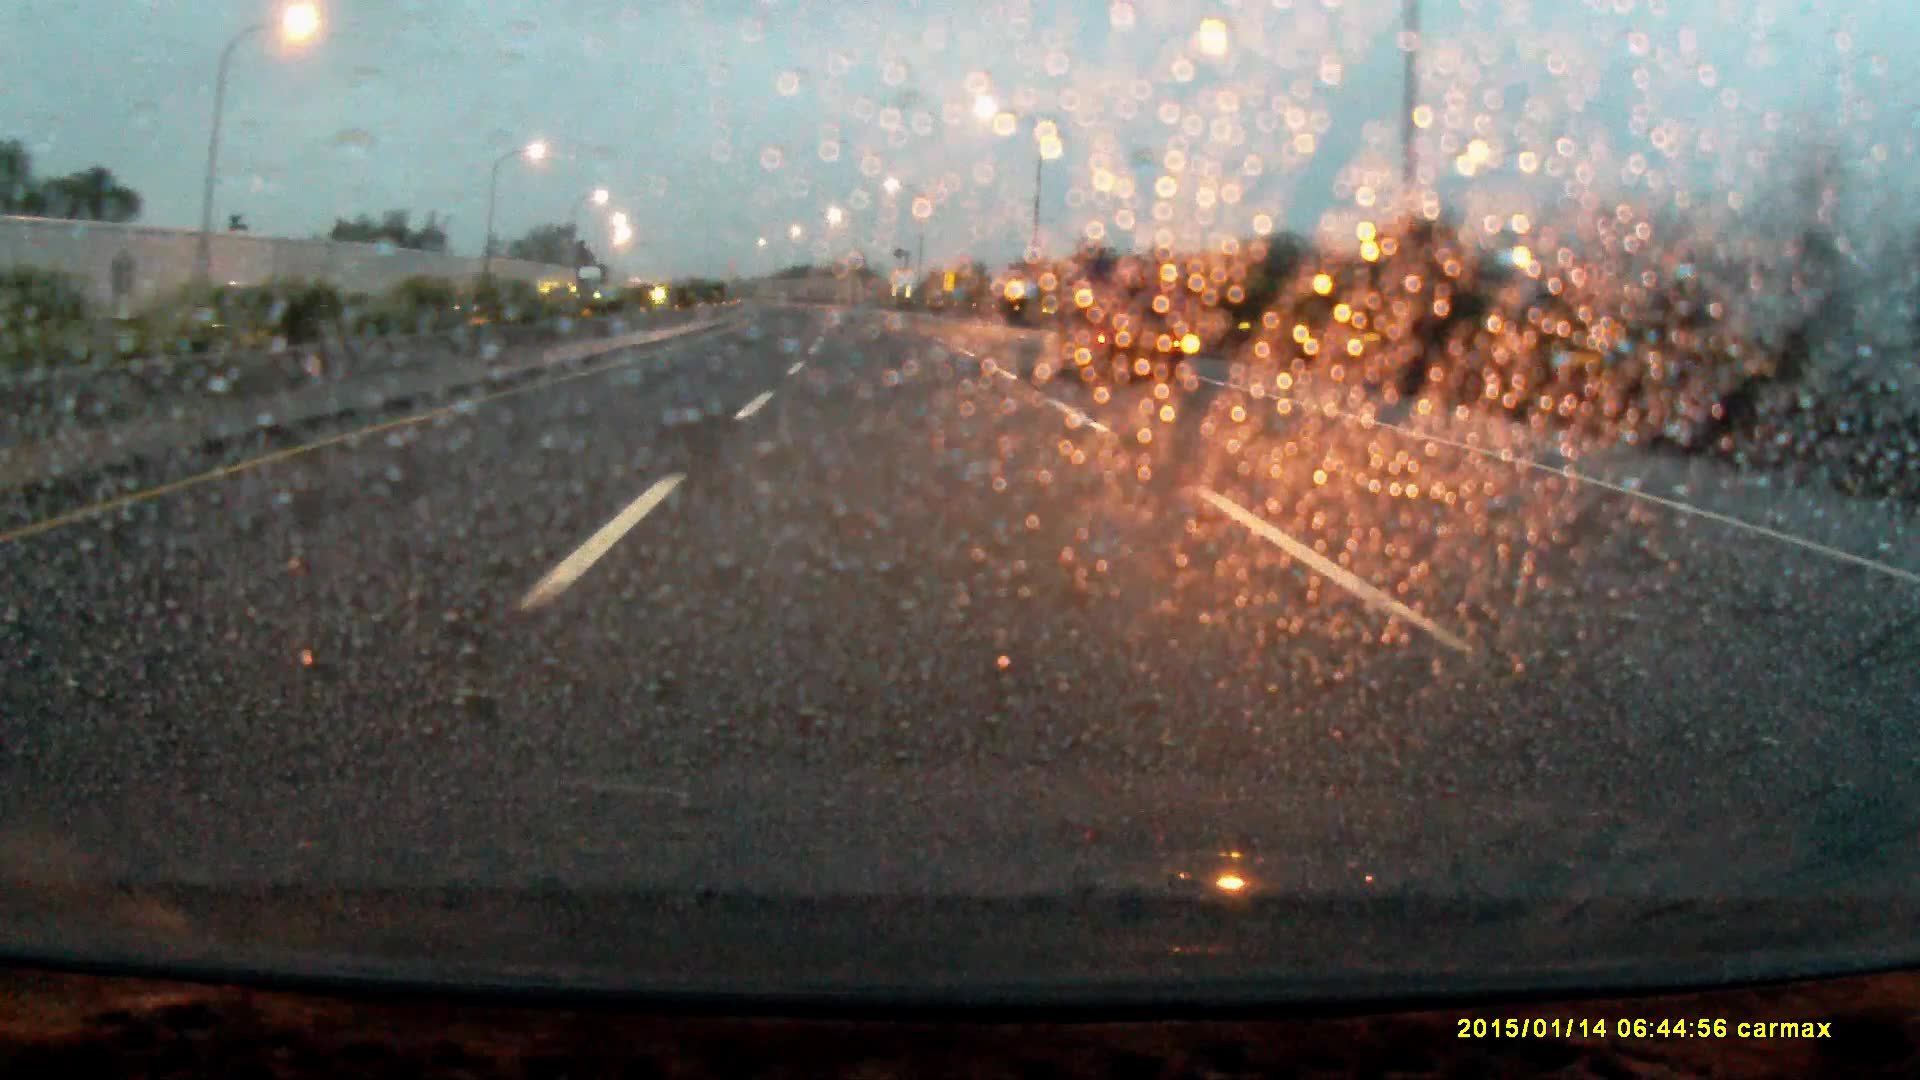vehicle: (1054, 257, 1191, 392), (575, 264, 611, 309)
